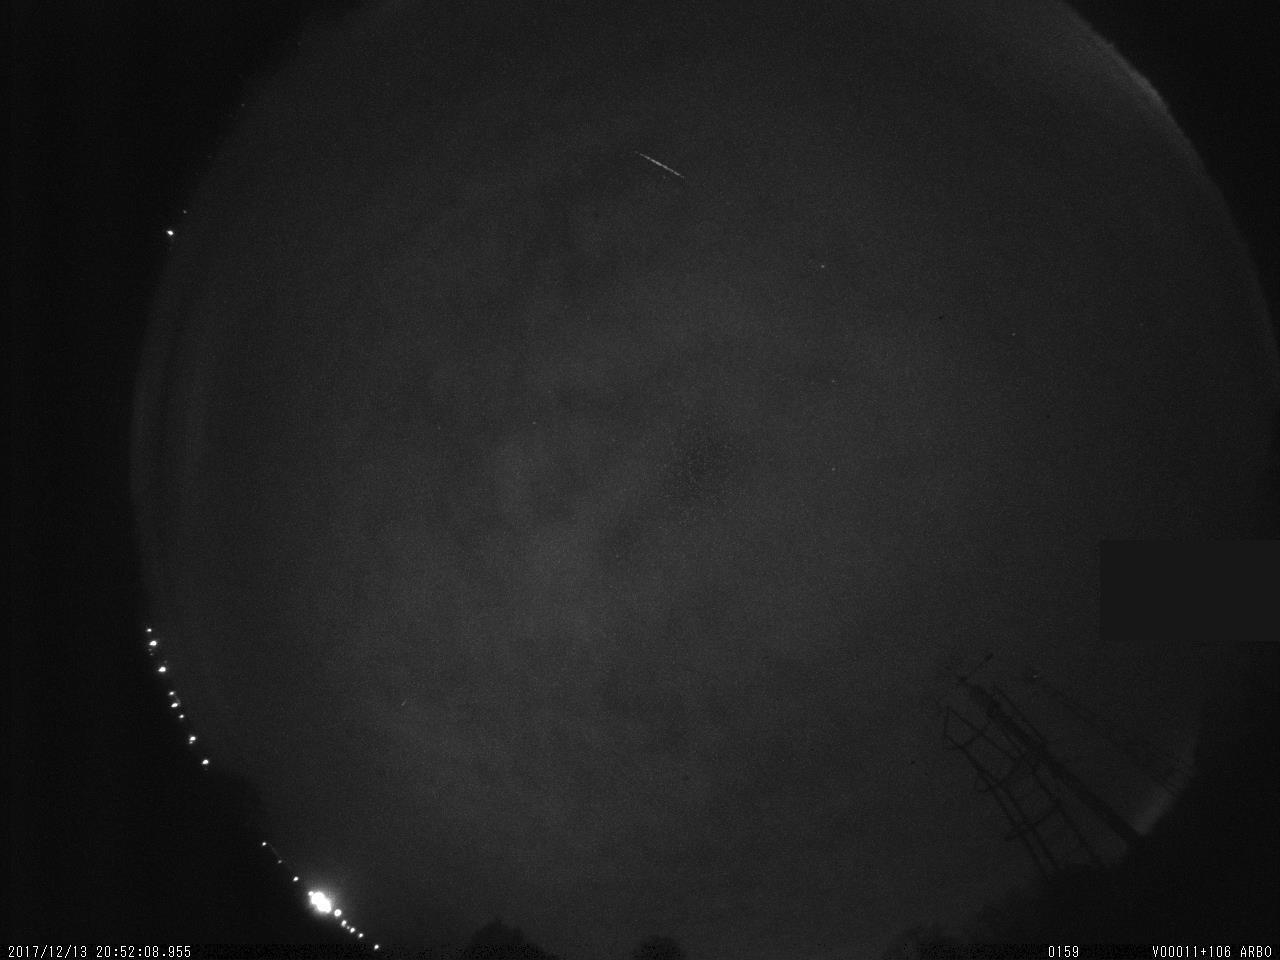meteor: (615, 135, 698, 193)
